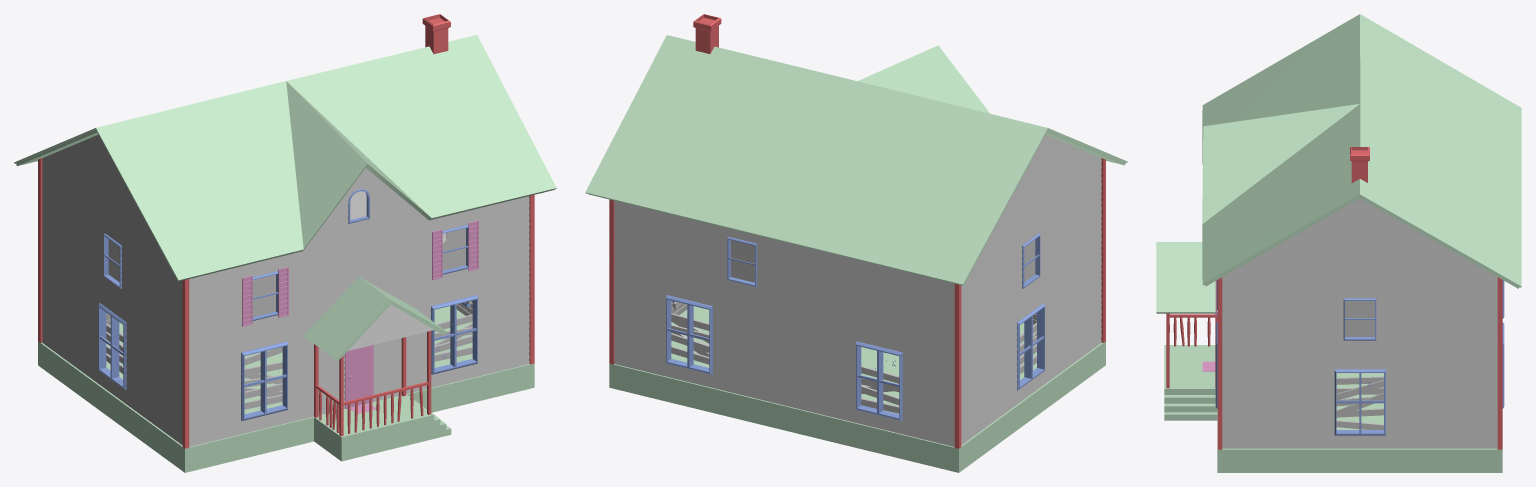
The model's file is house1.fbx.
3 views of the same model, side by side, from view 1: azimuth 30°, elevation 25°; view 2: azimuth 150°, elevation 25°; view 3: azimuth 270°, elevation 25° (orthographic). The views are drawn at different scales.
Visible parts, largest first — view 1: Panels, Roof.001, Floor, Plane.002, Cube.006, Cube.013, Plane.005, Cube.007, Cylinder, Cube.012, Door.001, Cube.021 (+3 smaller); view 2: Panels, Roof.001, Floor, Plane.002, Cube.006, Cube.014, Cube.010, Cube.009, Plane.010; view 3: Roof.001, Panels, Floor, Cube.013, Cube.006, Plane.002, Cube.011, Plane.008, Cube.009, Cylinder.
Part boxes in pixels (x1,y1,x2,y2): Panels: (42, 134, 529, 446); Roof.001: (14, 35, 556, 281); Floor: (38, 306, 534, 472); Plane.002: (98, 189, 477, 420); Cube.006: (38, 158, 534, 448); Cube.013: (303, 277, 446, 360); Plane.005: (242, 220, 478, 326); Cube.007: (348, 304, 433, 350); Cylinder: (319, 386, 423, 433); Cube.012: (244, 347, 282, 409); Door.001: (347, 345, 371, 407); Cube.021: (434, 314, 472, 361); Panels: (614, 135, 1101, 446); Roof.001: (585, 35, 1127, 285); Floor: (609, 306, 1105, 472); Plane.002: (666, 233, 1044, 420); Cube.006: (609, 158, 1105, 448); Cube.014: (671, 313, 709, 364); Cube.010: (861, 366, 899, 413); Cube.009: (693, 14, 721, 53); Plane.010: (731, 240, 754, 282); Roof.001: (1202, 14, 1521, 288); Panels: (1222, 198, 1497, 448); Floor: (1164, 345, 1502, 472); Cube.013: (1156, 242, 1217, 313); Cube.006: (1166, 277, 1502, 449); Plane.002: (1215, 280, 1504, 435); Cube.011: (1336, 376, 1383, 429); Plane.008: (1345, 301, 1374, 336); Cube.009: (1350, 147, 1369, 182); Cylinder: (1169, 317, 1210, 346).
Size of the model in its own units: 1345 by 1080 by 1152.
